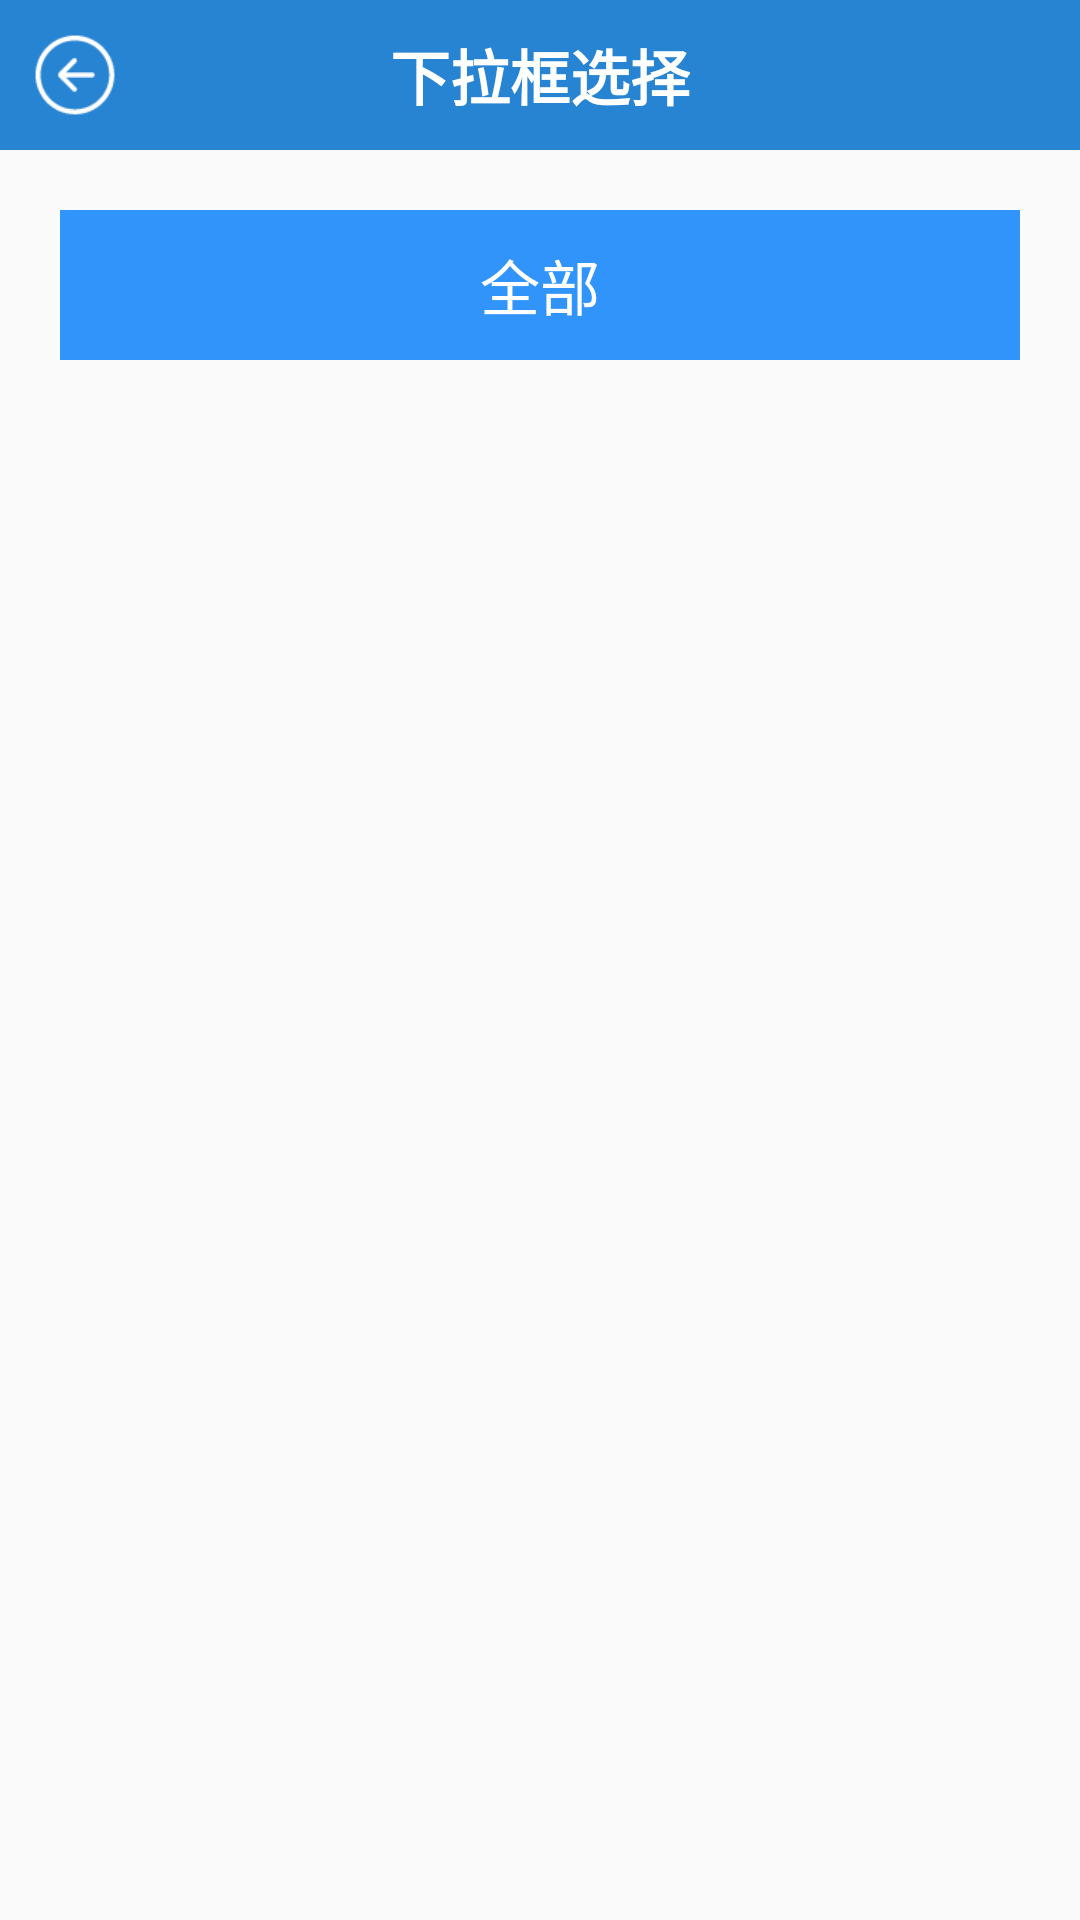

Locate icon controls on the screen. Image size 1080w x 1920h, boxes as (x1, y1, x2, y2).
back: (35, 35, 115, 115)
